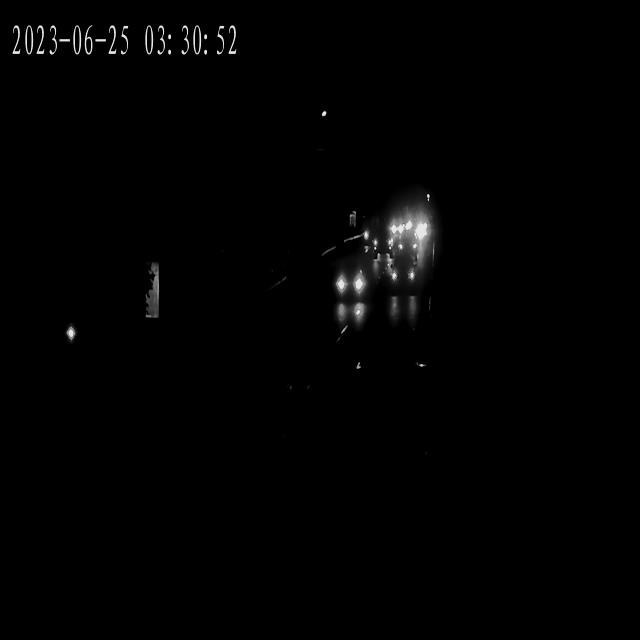Car: (334, 266, 369, 302), (388, 258, 418, 292), (365, 226, 394, 252), (367, 230, 396, 255), (362, 229, 391, 253), (408, 220, 431, 237), (411, 224, 431, 242), (389, 218, 407, 236)
